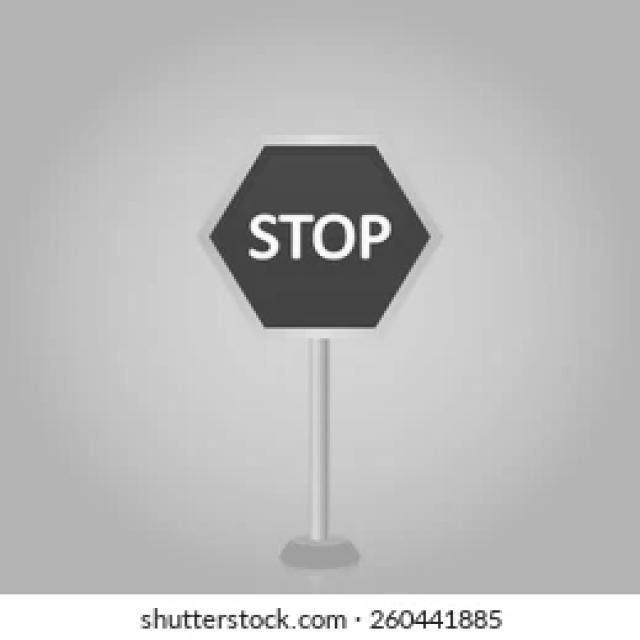Stop-sign: (186, 102, 456, 349)
